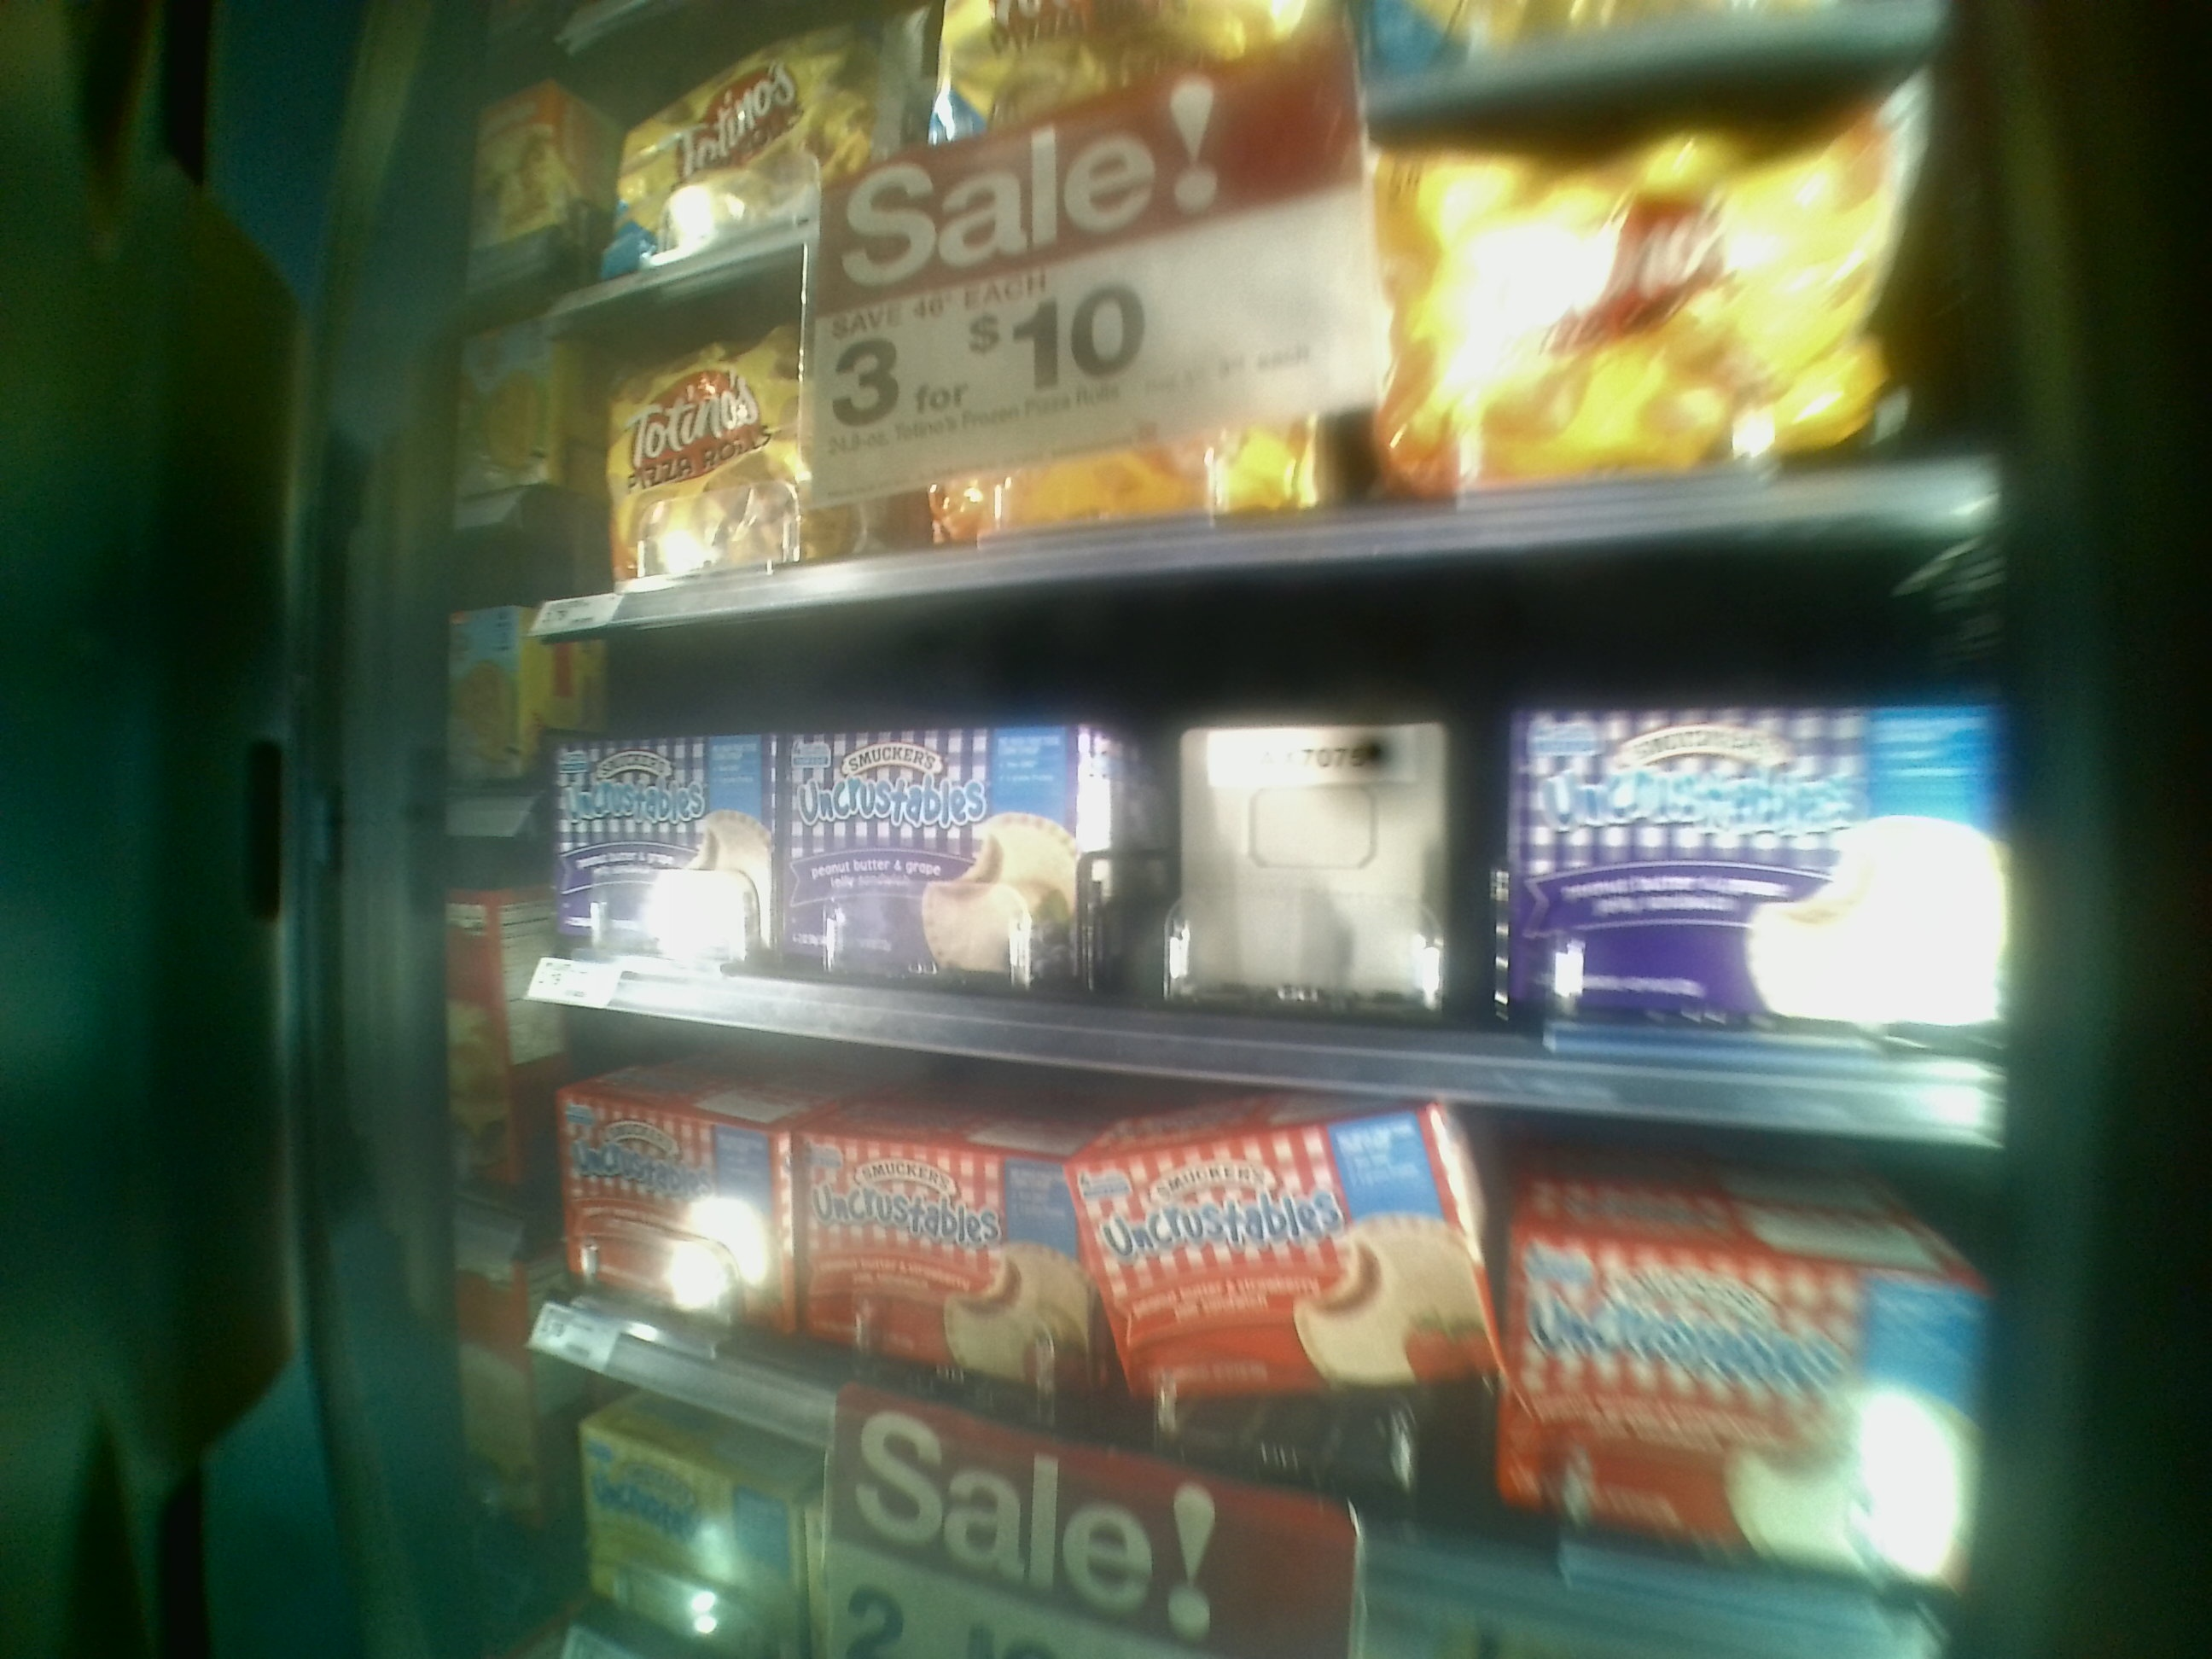shelf: (474, 1021, 2006, 1659), (484, 626, 2013, 1161), (493, 129, 2015, 608)
